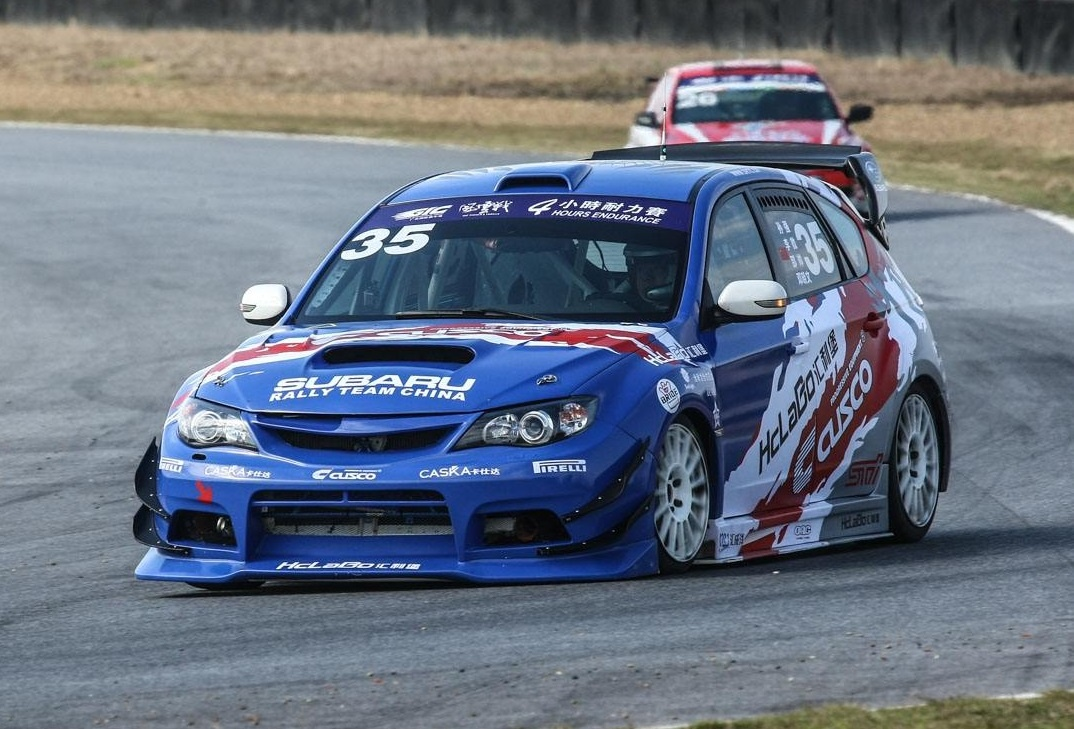racing car: (150, 162, 949, 575), (610, 53, 914, 234)
